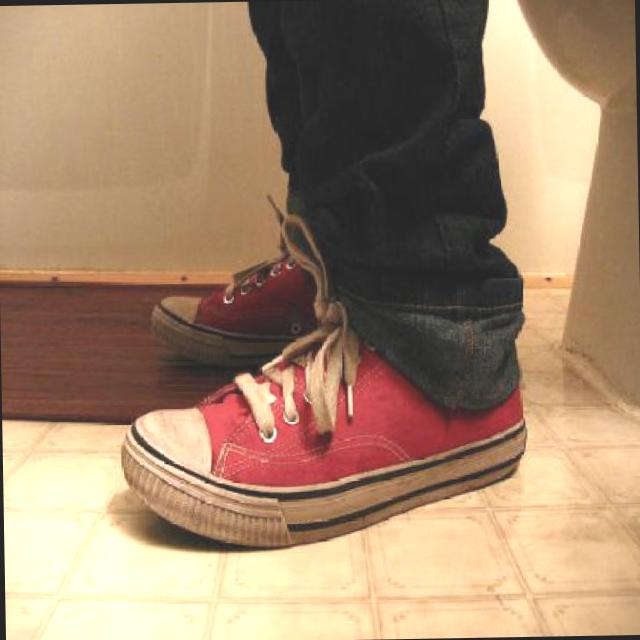Person: (114, 0, 528, 549)
